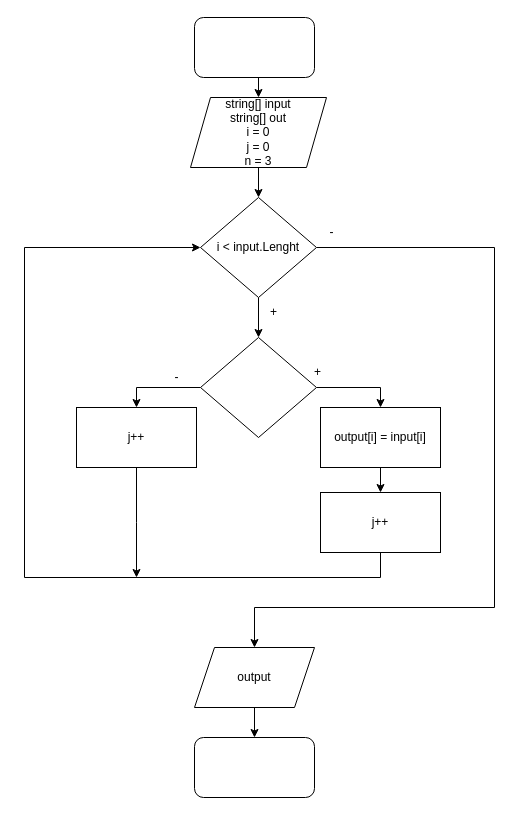
Image size: 520x815. Some labels were removed from this diagram. Here are the shapes that lost their labels. From the top down, the box of each, then its label:
(194, 16, 314, 78): Начало
(200, 336, 316, 438): input[i].Lenght <= n
(194, 736, 314, 798): Конец
